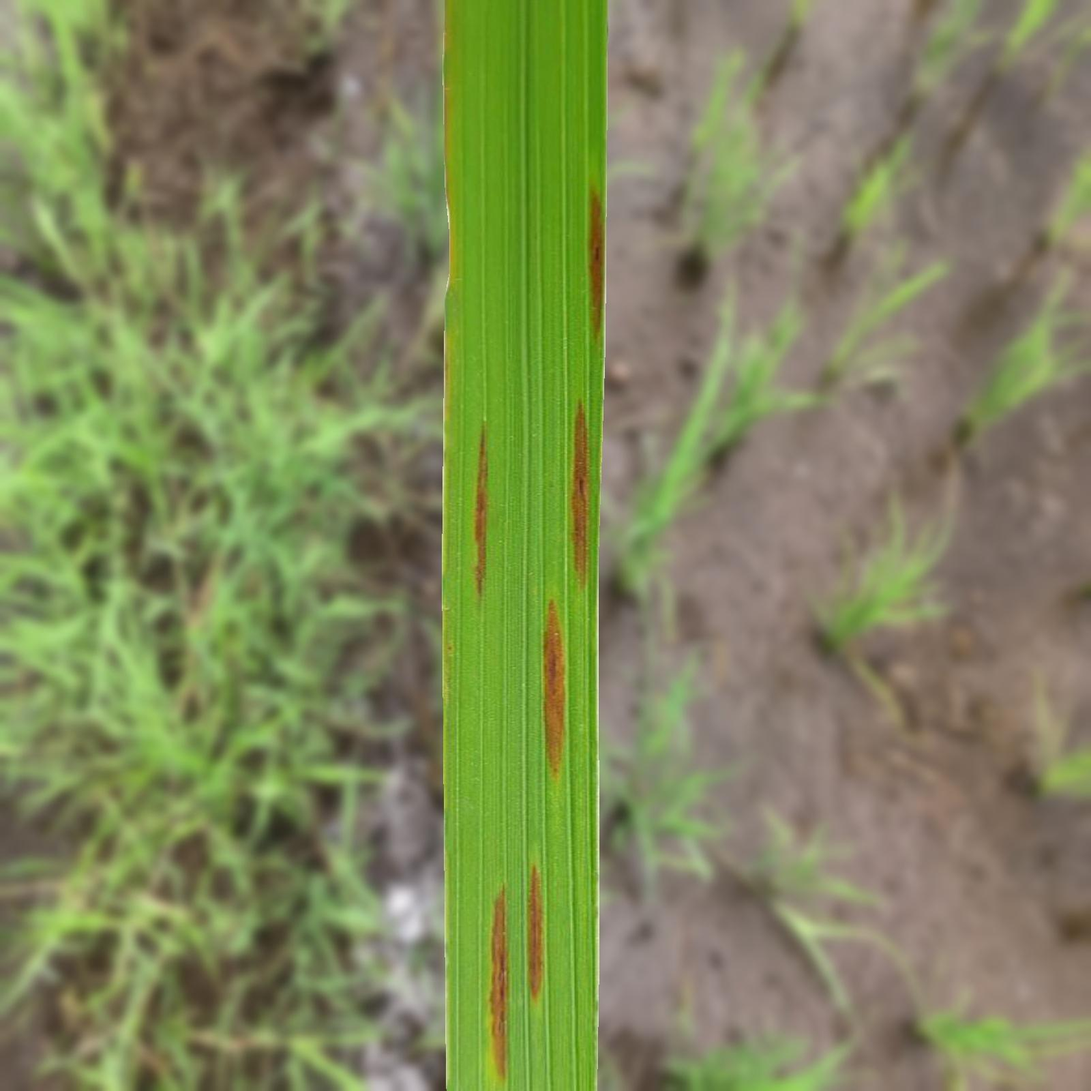LEAF: (442, 0, 608, 1090)
NBS: (543, 601, 565, 777), (491, 886, 509, 1080), (571, 403, 589, 584), (588, 188, 605, 337), (474, 424, 488, 597), (528, 865, 543, 1000)
